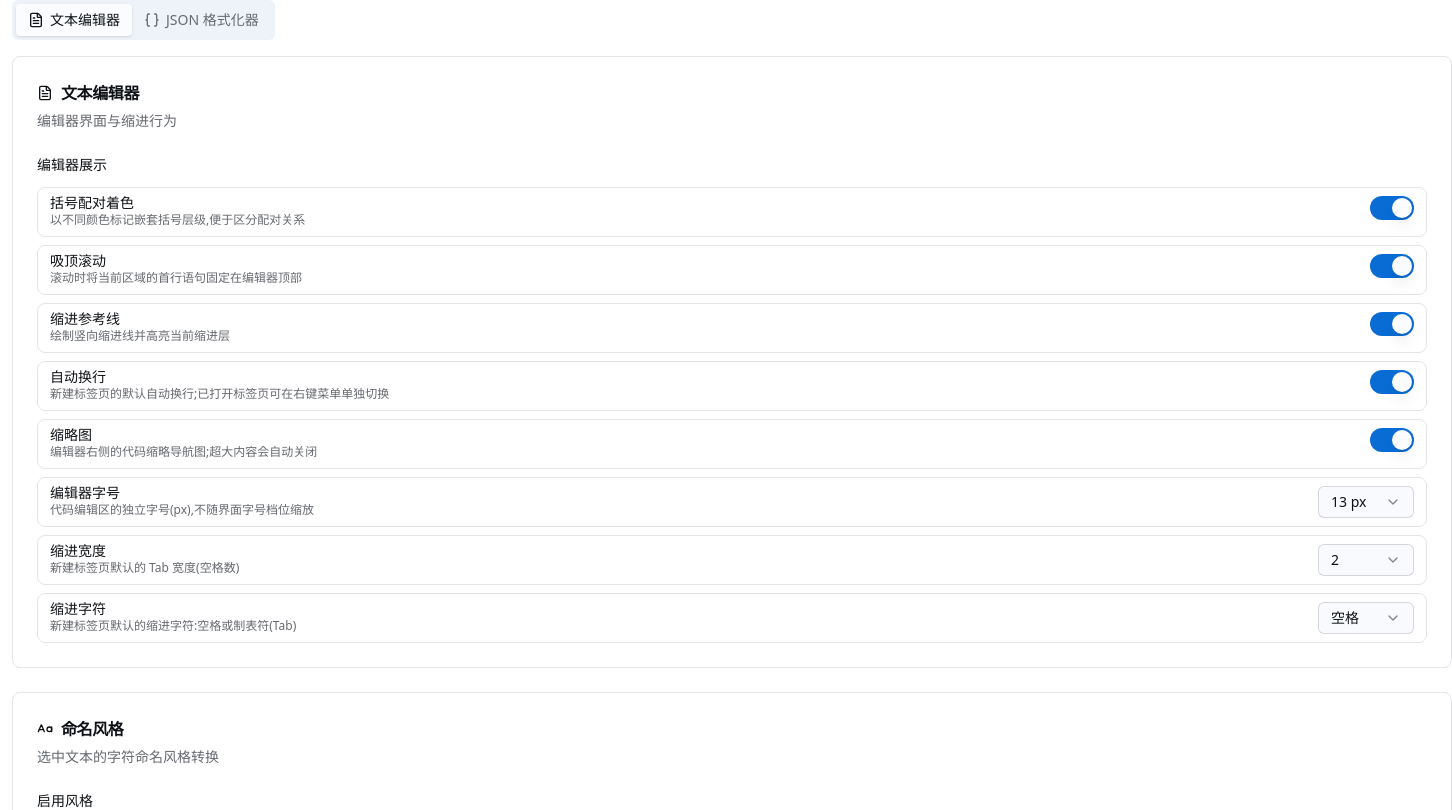
Test: SettingsPanel › 工具设置标签页:默认文本编辑器,与 JSON 格式化器互斥切换
This screenshot has width=1452, height=810.
Check: the dropdown named "编辑器字号" is shown, box [1318,486,1414,518]
Check: the field labelled "JSON 默认缩进" is not shown
Step 1. Press the mouse on the tab with test id "tool-tab-json_formatter" → point(201, 20), box [132,4,271,36]
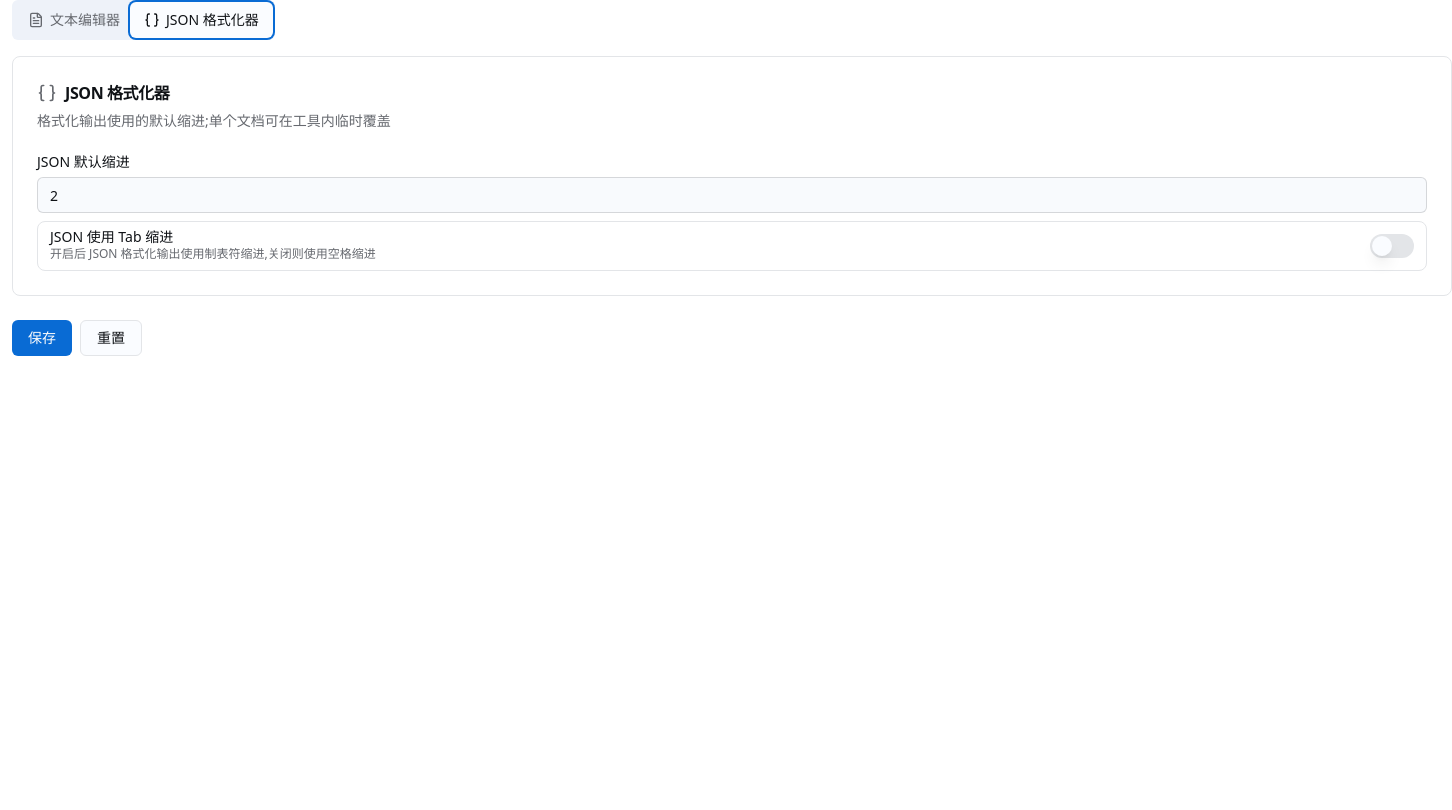
Check: the number field labelled "JSON 默认缩进" is shown, box [37,177,1427,213]
Check: the label labelled "编辑器字号" is gone
Step 2. Press the mouse on the tab with test id "tool-tab-editor" → point(74, 20), box [16,4,132,36]
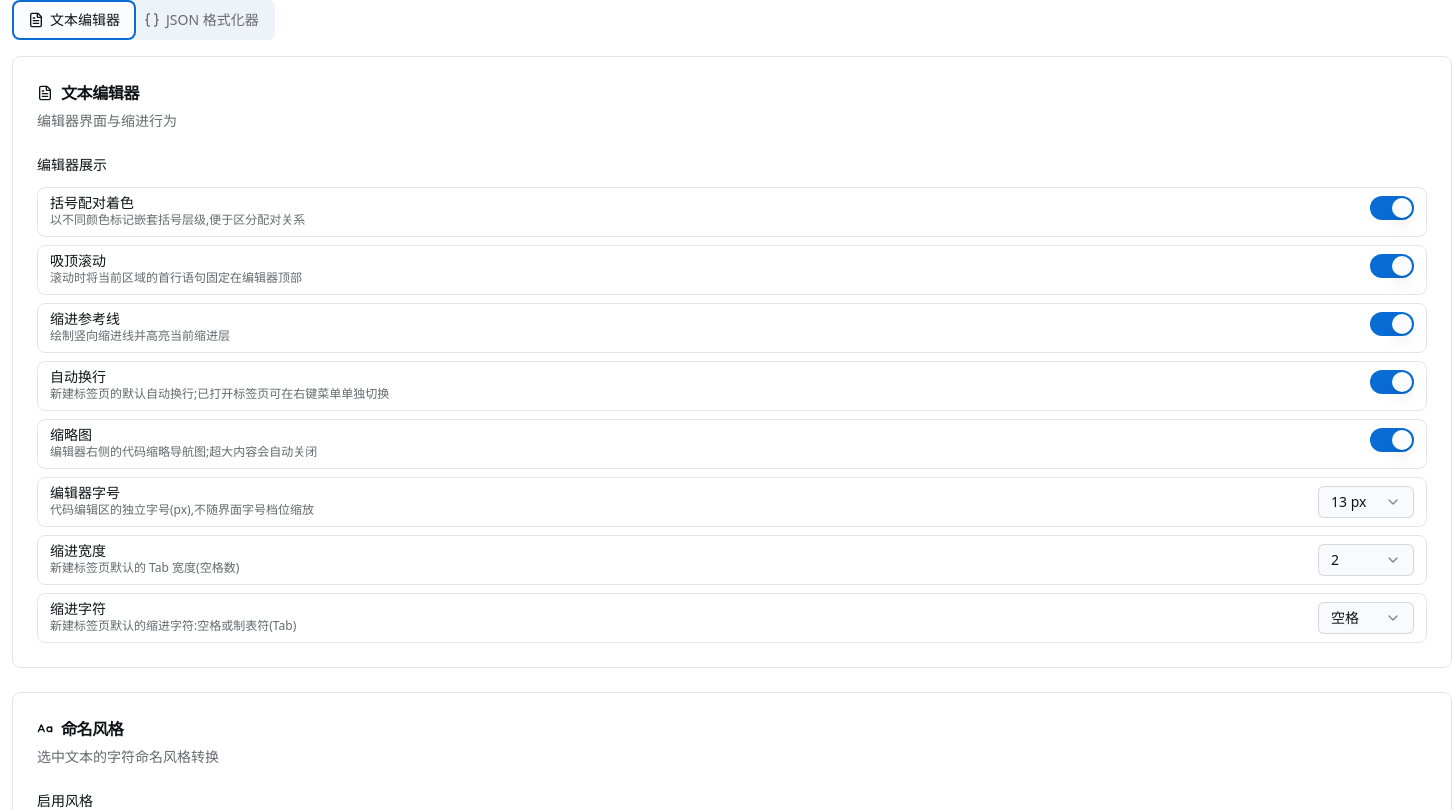
Check: the dropdown named "编辑器字号" is shown, box [1318,486,1414,518]
